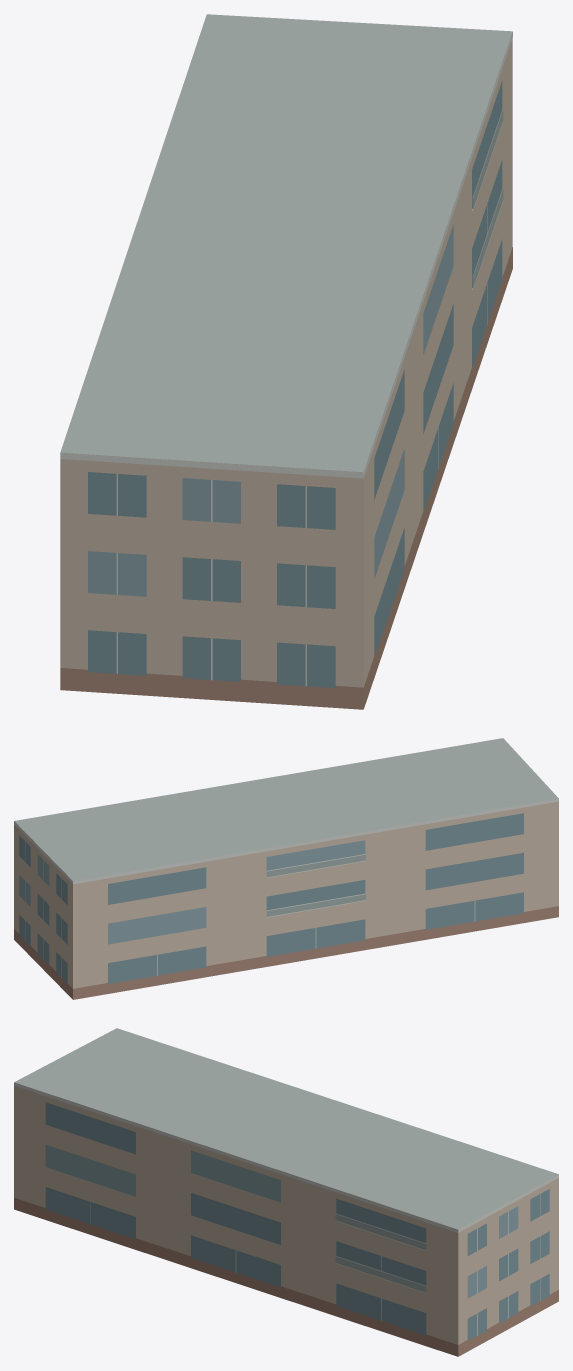
The model's file is survey-upis-32754222.glb.
3 views of the same model, one above another, from view 1: azimuth 30°, elevation 25°; view 2: azimuth 150°, elevation 25°; view 3: azimuth 270°, elevation 25° (orthographic). The views are drawn at different scales.
Parts seen in each view (by area): view 1: survey-upis-32754222.tmp; view 2: survey-upis-32754222.tmp; view 3: survey-upis-32754222.tmp.
Boxes of the visible parts, box(x1,y1,x2,y2) form: survey-upis-32754222.tmp: box(60, 14, 512, 709); survey-upis-32754222.tmp: box(14, 738, 558, 999); survey-upis-32754222.tmp: box(14, 1028, 558, 1356).
Size of the model in its own units: 31.11 by 9.15 by 35.53.
